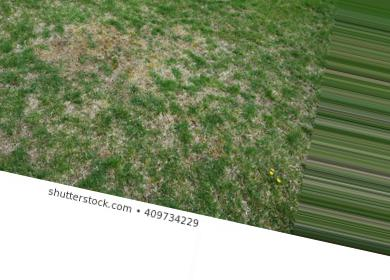patch: (35, 34, 120, 70), (135, 42, 168, 75), (152, 112, 173, 130)
